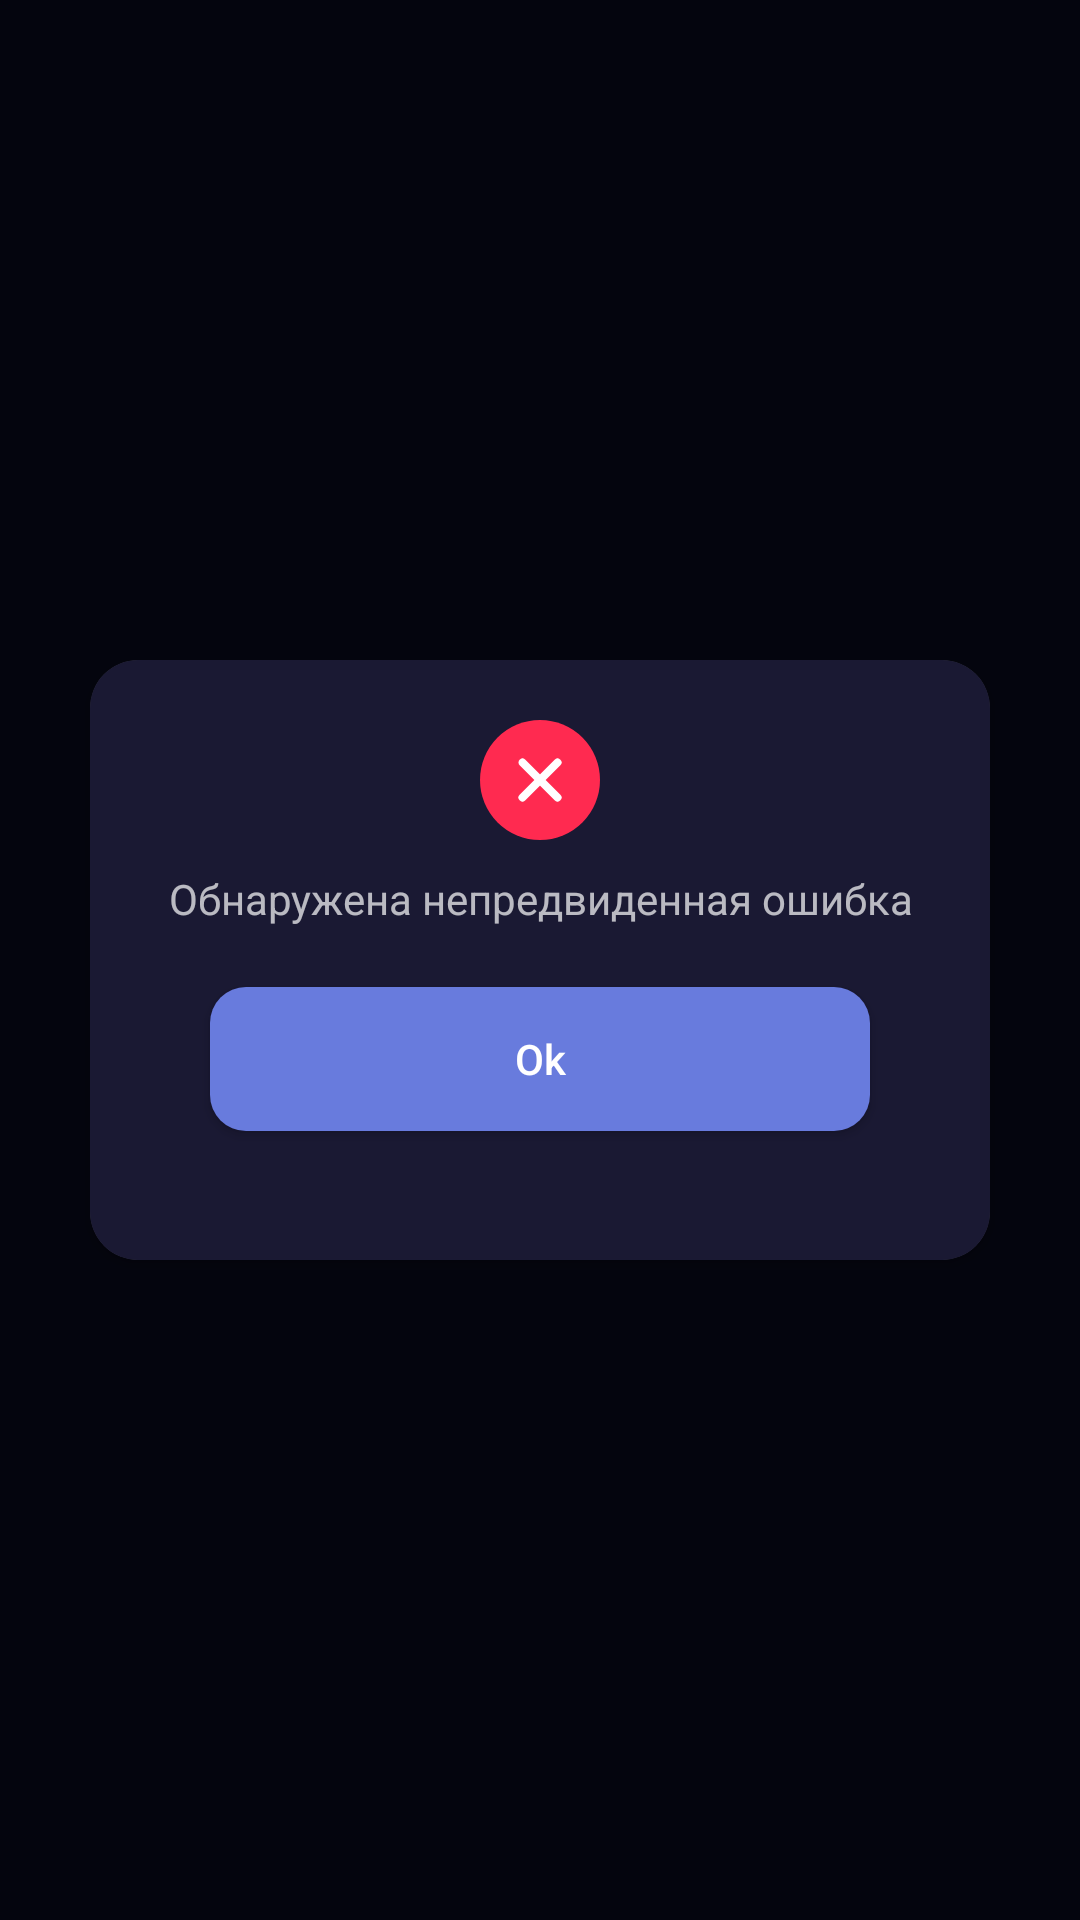

Locate icon controls on the screen. Image size 1080px×1920px, boxes as bbox=(x1, y1, x2, y2).
error: bbox=(480, 720, 600, 840)
